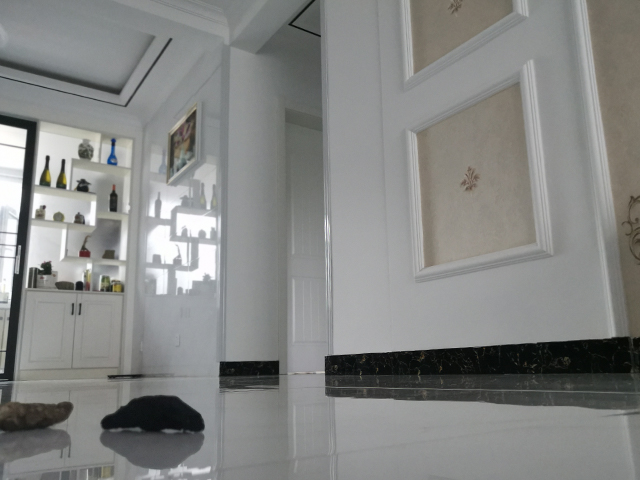cabinet: (9, 289, 121, 383)
feces: (98, 392, 207, 433), (1, 399, 76, 433)
